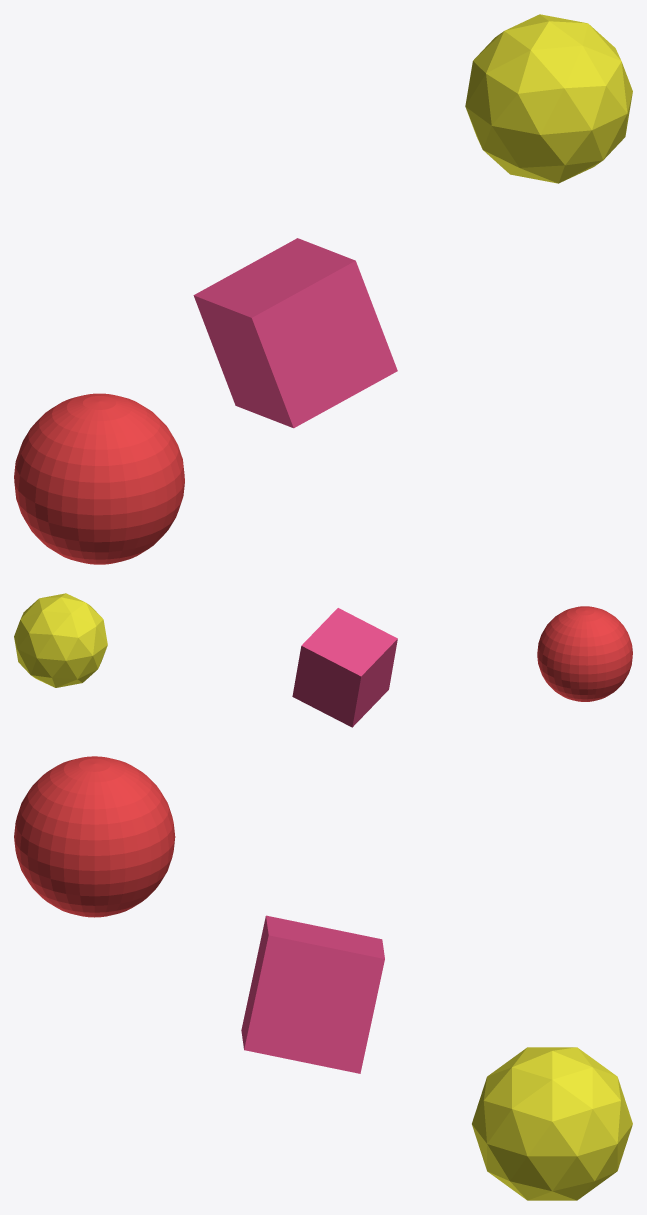
The model's file is carre.glb.
3 renders of one model, top to bottom at view 1: azimuth 30°, elevation 25°; view 2: azimuth 150°, elevation 25°; view 3: azimuth 270°, elevation 25°, orthographic. The views are drawn at different scales.
Visible parts, largest first — view 1: Cube, Sphere, Icosphere; view 2: Cube, Sphere, Icosphere; view 3: Sphere, Icosphere, Cube.
Boxes of the visible parts, x1,y1,x2,y2 form: Cube: (193, 238, 397, 428); Sphere: (14, 393, 184, 564); Icosphere: (465, 14, 632, 183); Cube: (292, 608, 397, 727); Sphere: (537, 606, 632, 701); Icosphere: (14, 593, 107, 687); Sphere: (14, 756, 175, 917); Icosphere: (472, 1047, 632, 1200); Cube: (241, 915, 384, 1073).
Size of the model in its own units: 11.28 by 2.66 by 7.68.
